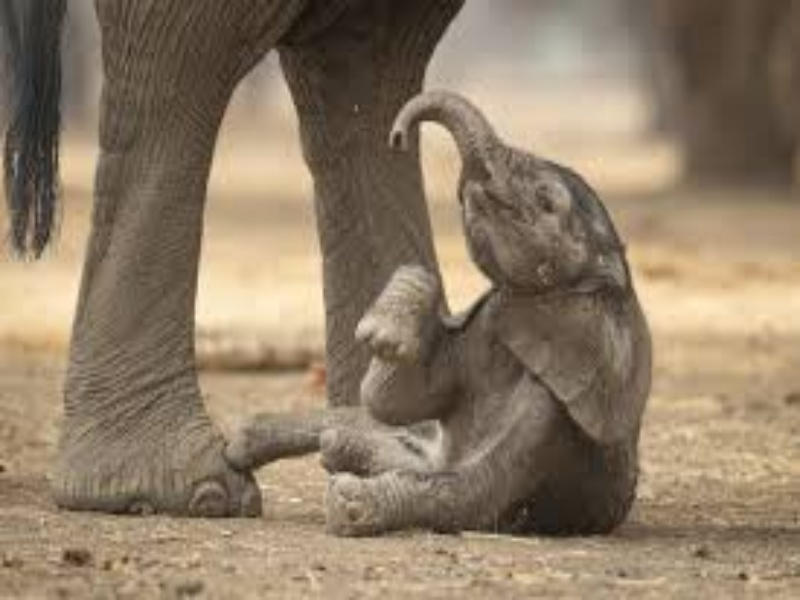elephant: (300, 72, 678, 538)
